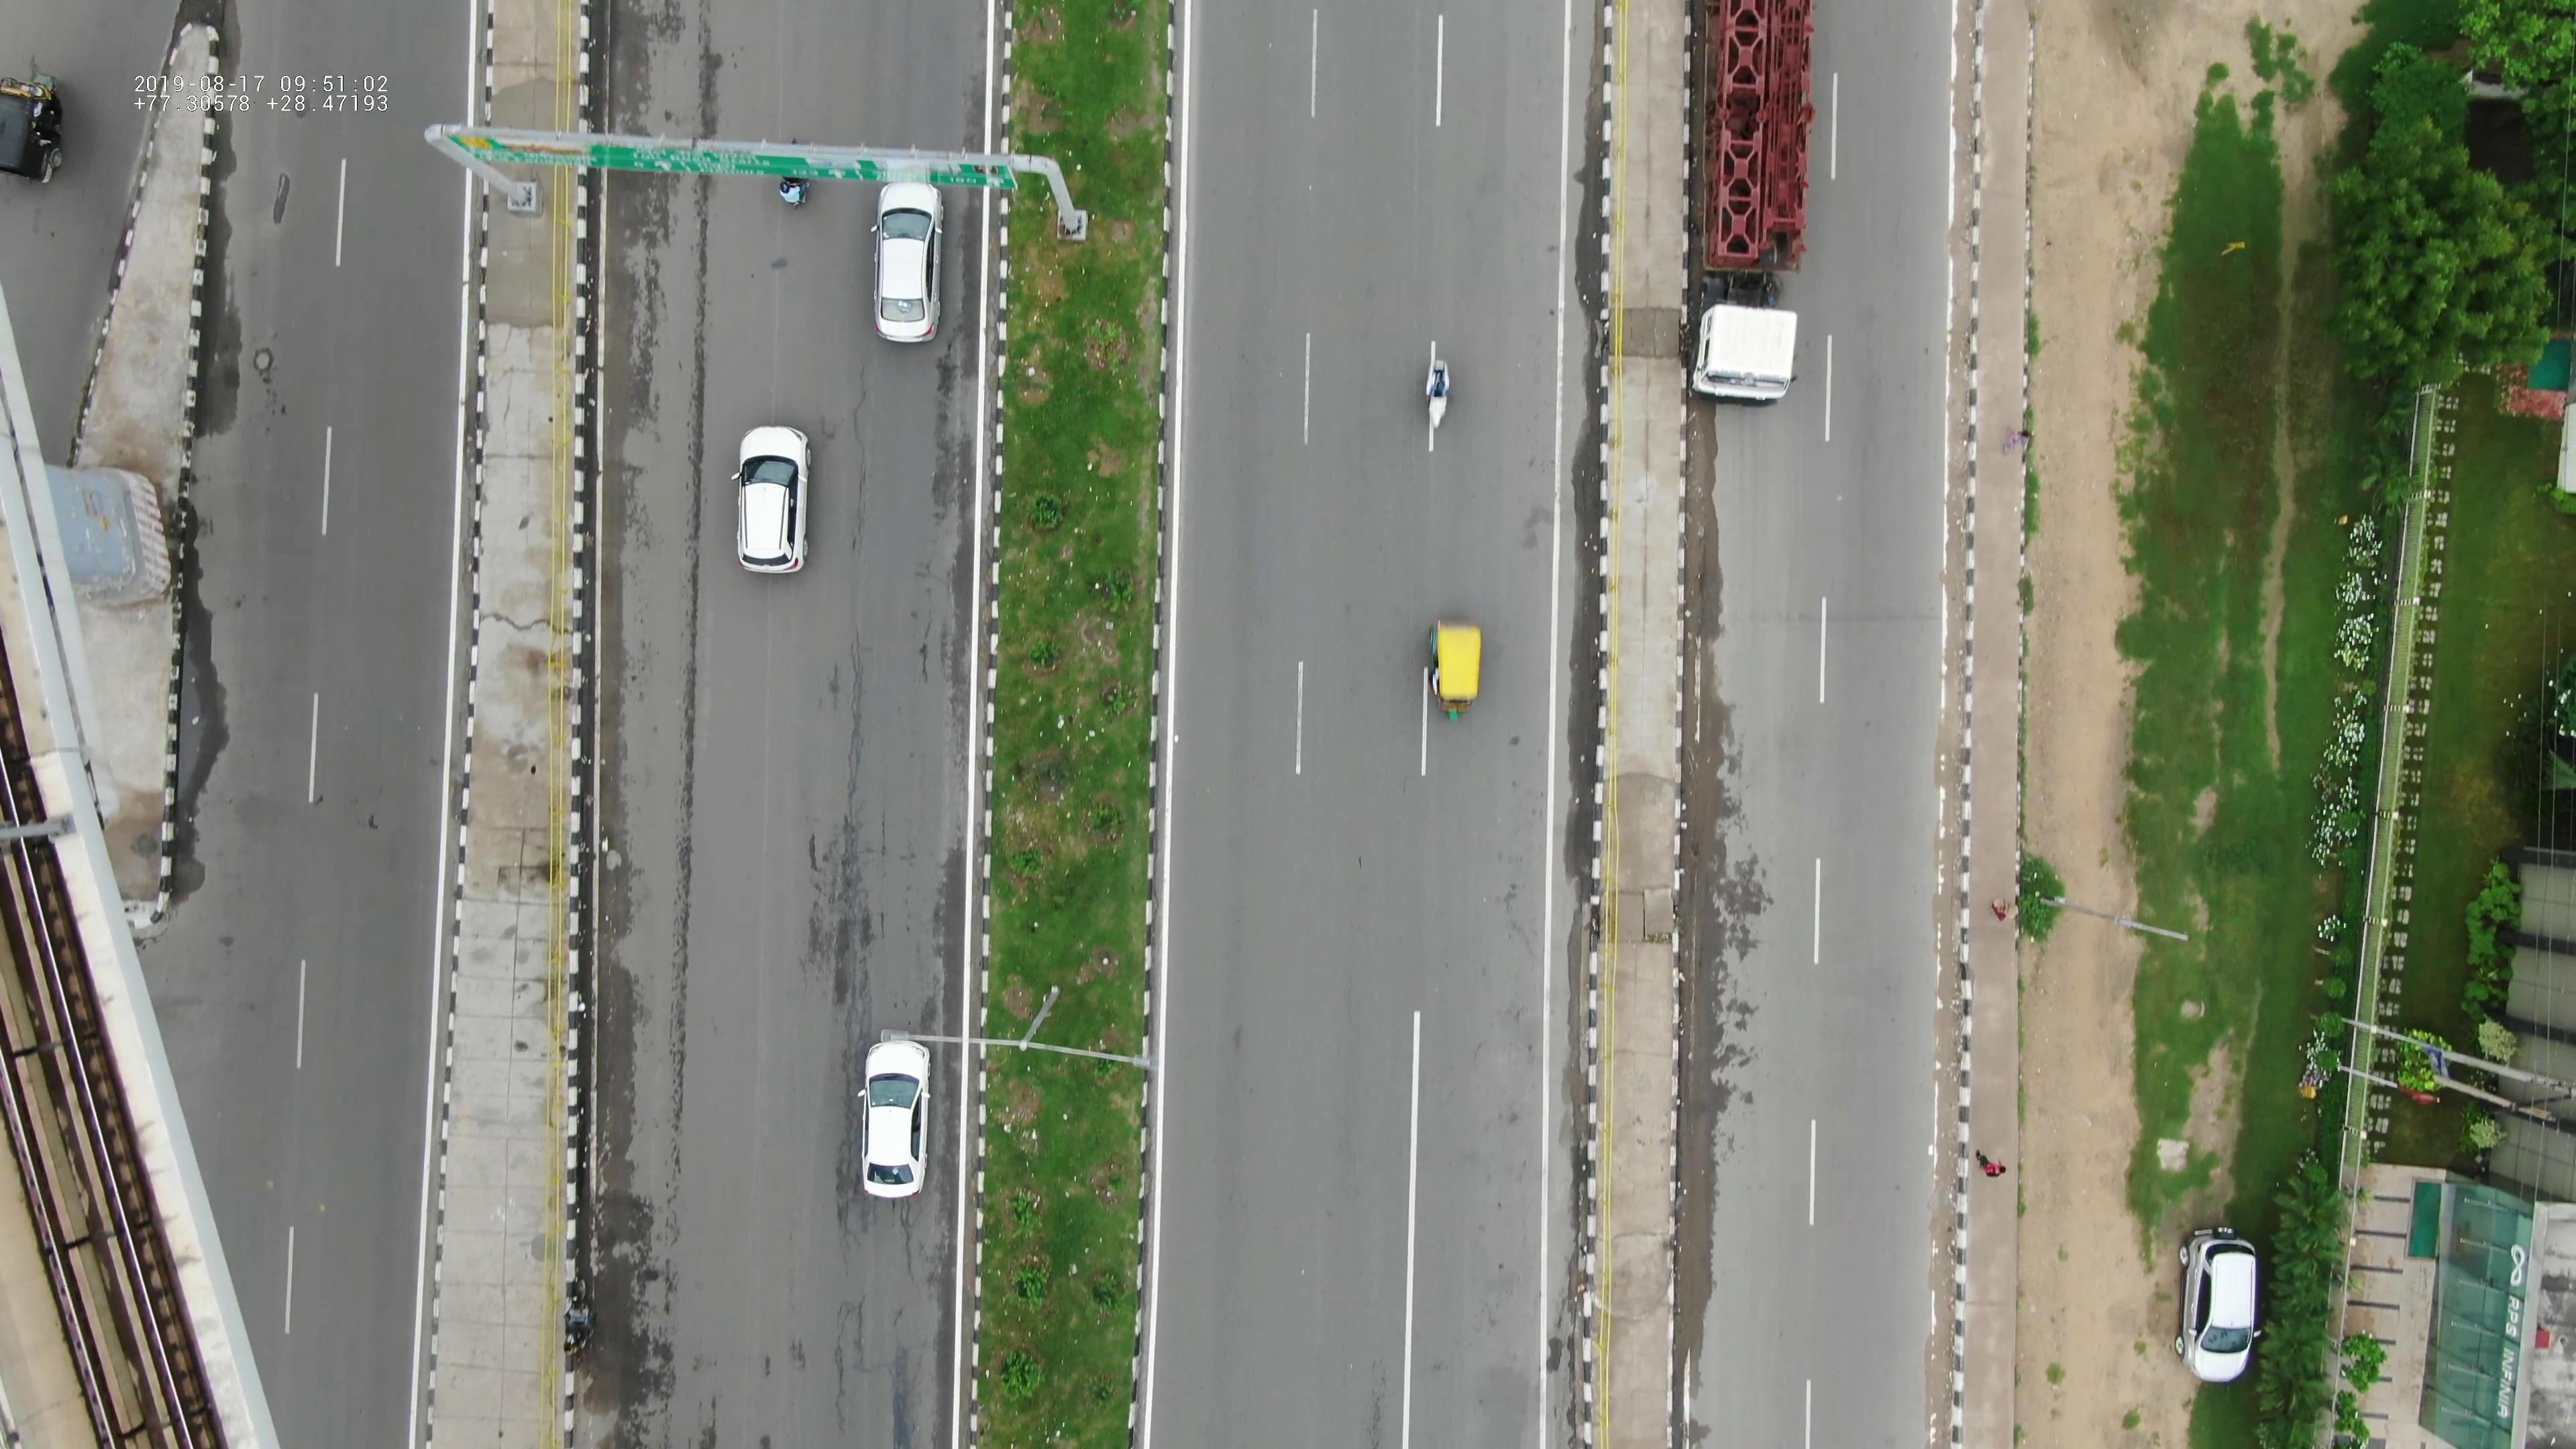Alligator_cracks: (803, 1200, 924, 1444)
